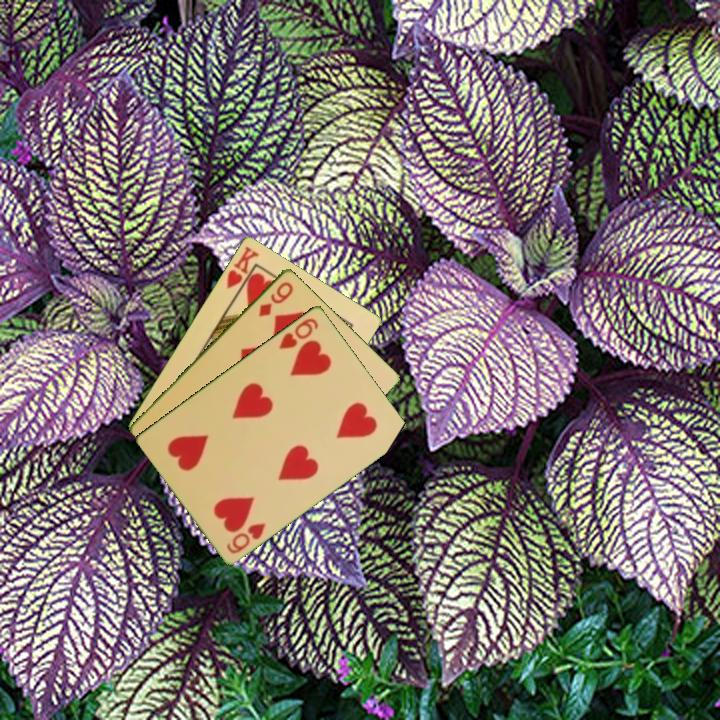6h: (275, 314, 322, 352), (223, 519, 269, 556)
9d: (255, 278, 296, 320)
Kh: (223, 242, 262, 299)
